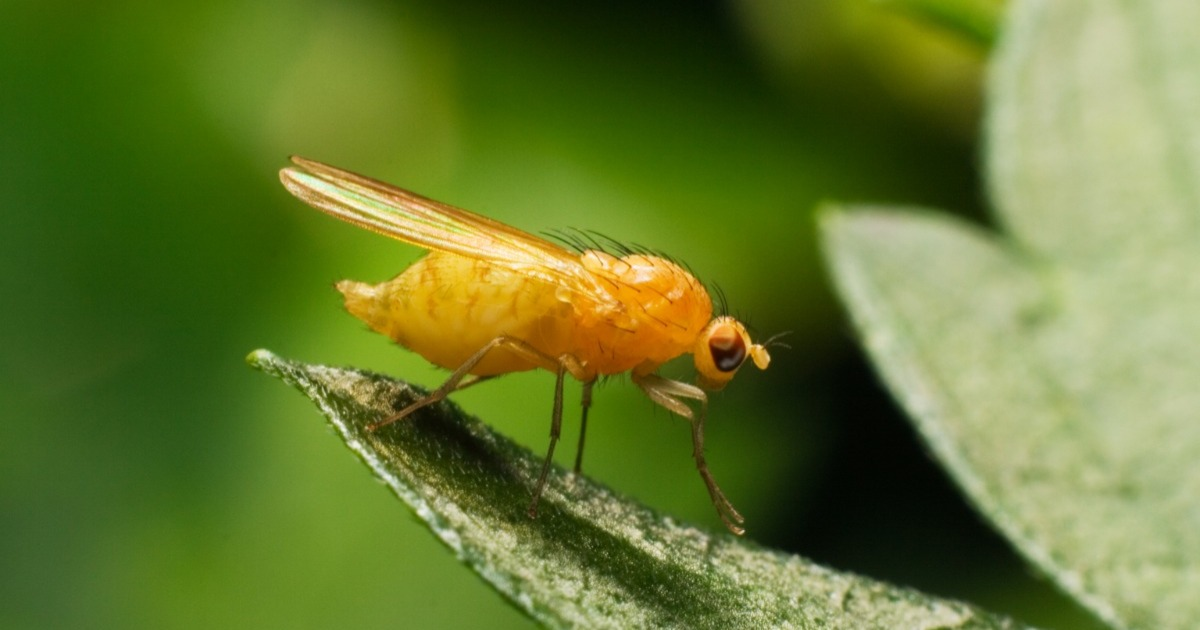Fruit fly: (262, 126, 742, 571)
